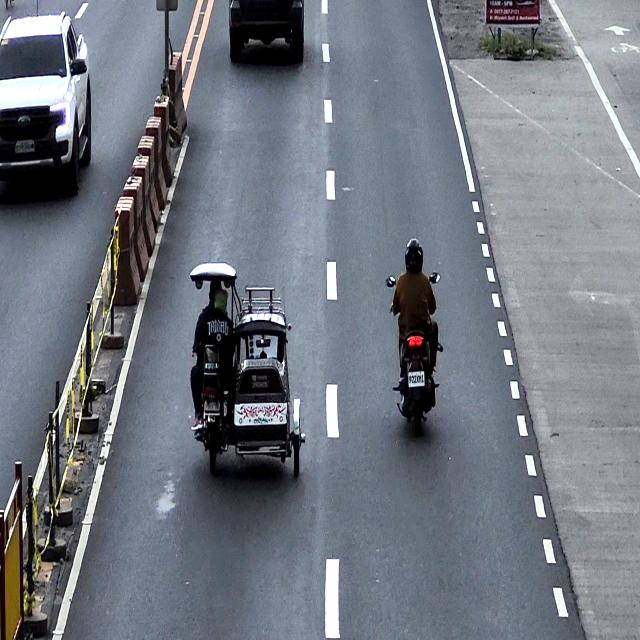Car: (0, 10, 92, 189), (228, 0, 305, 63)
License-Plate: (408, 368, 426, 388), (14, 138, 36, 154), (203, 398, 221, 412)
Motorcycle: (385, 272, 443, 436)
Tricycle: (188, 261, 306, 479)
